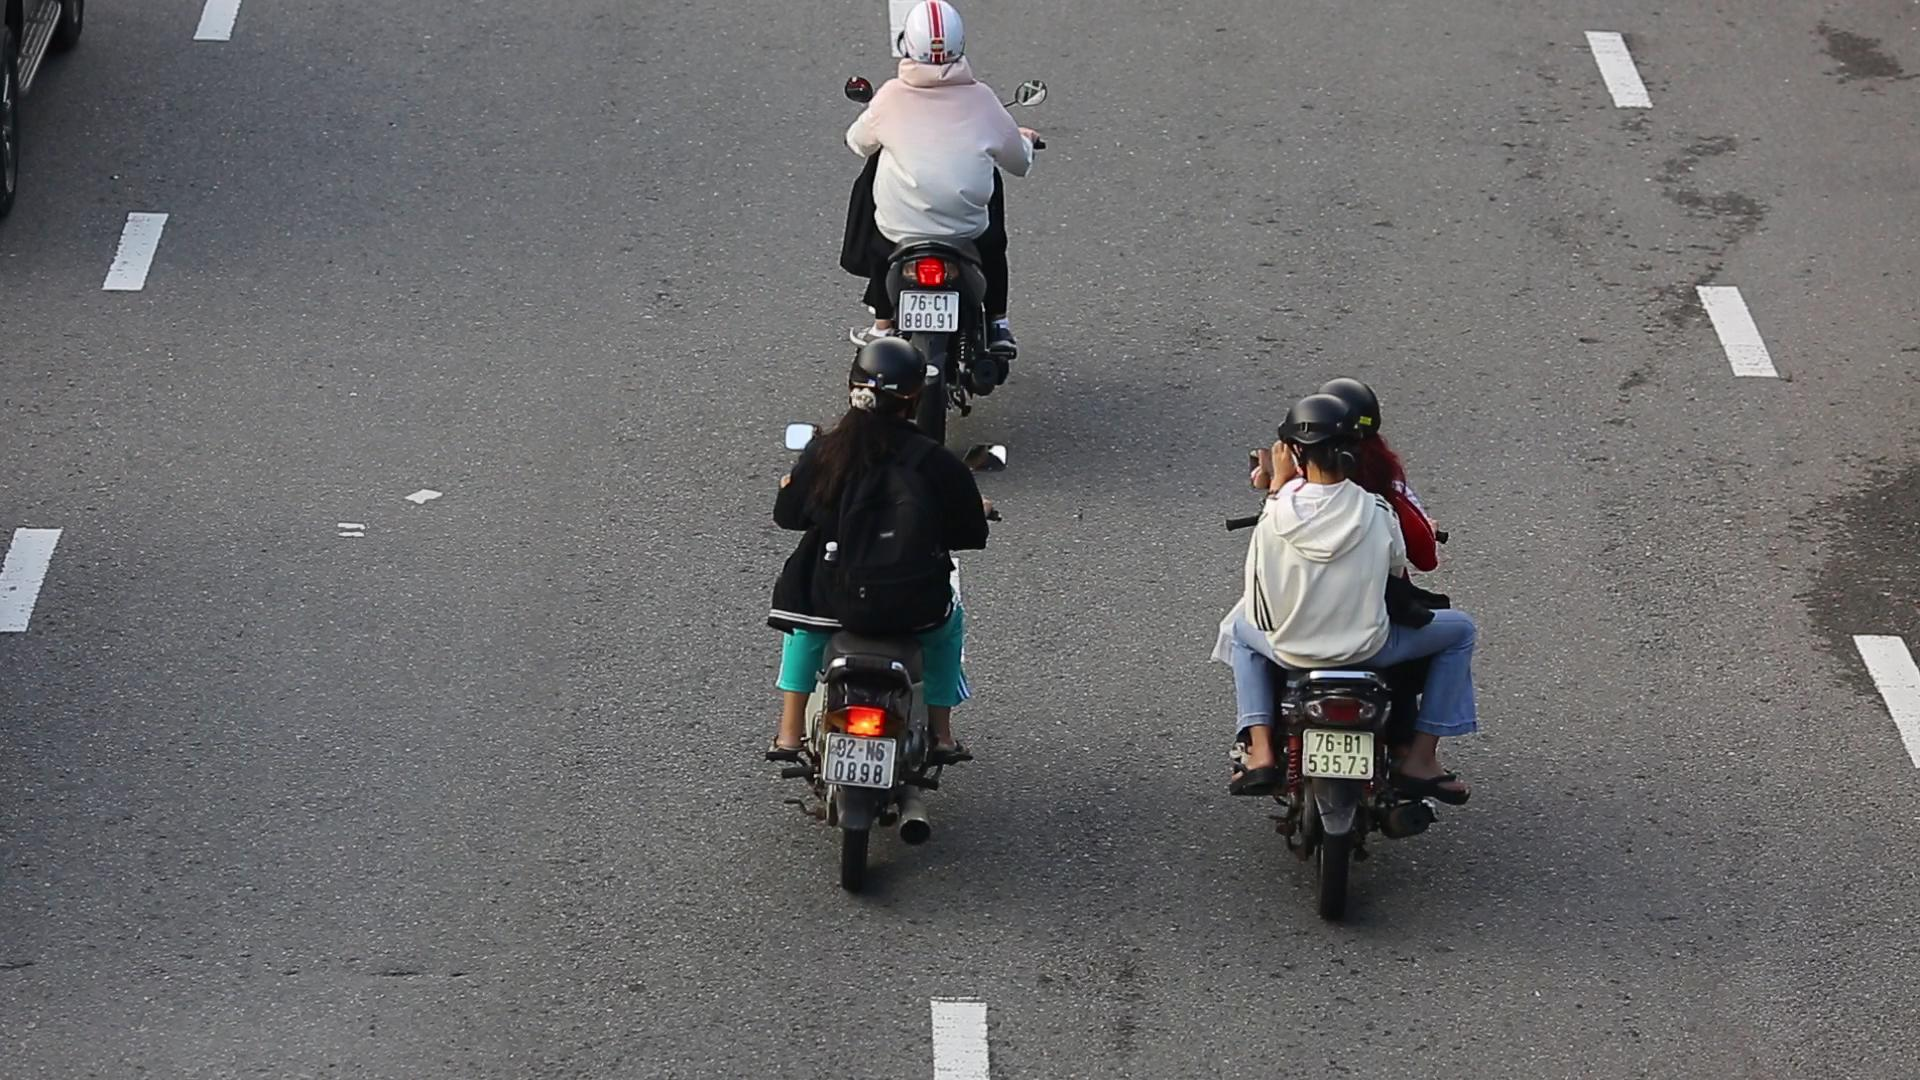motobike: (1216, 375, 1476, 924), (766, 338, 1017, 897)
